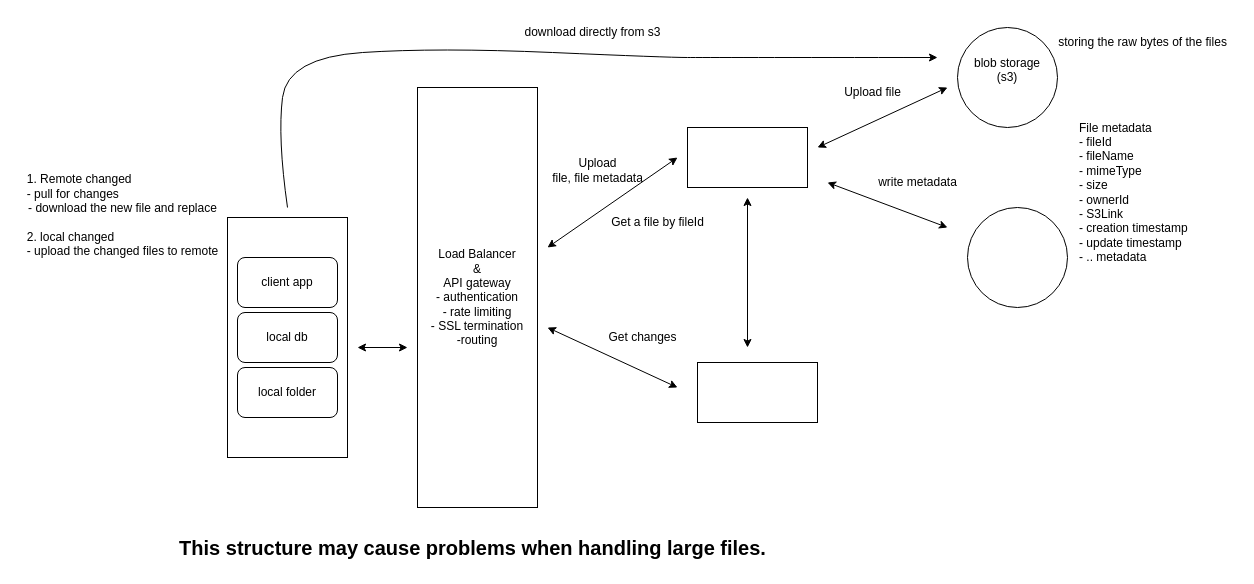
This 1254x584 diagram has some shape labels left out. The centre of each missing label's shape, as x and y in pixels:
"file metadata" belongs at (x=1017, y=257).
"File service" belongs at (x=747, y=157).
"Sync service" belongs at (x=757, y=392).
